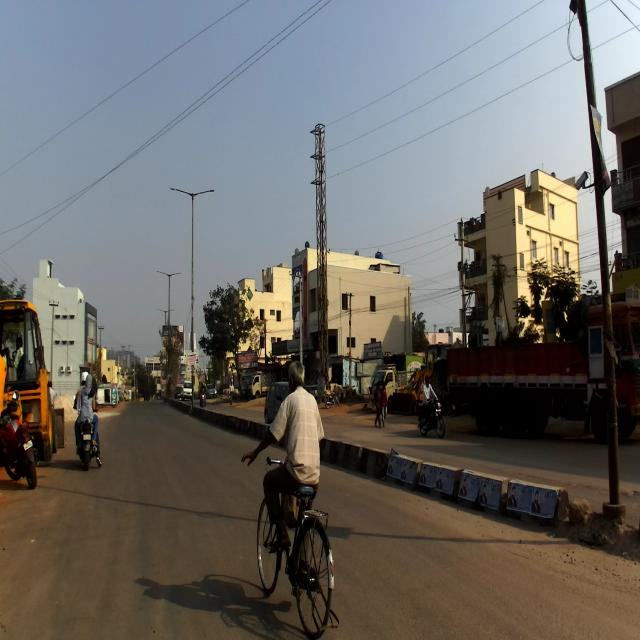bicycle ahead at: (245, 450, 346, 640)
motorcycle ahead at: (0, 399, 39, 484), (66, 413, 102, 464)
